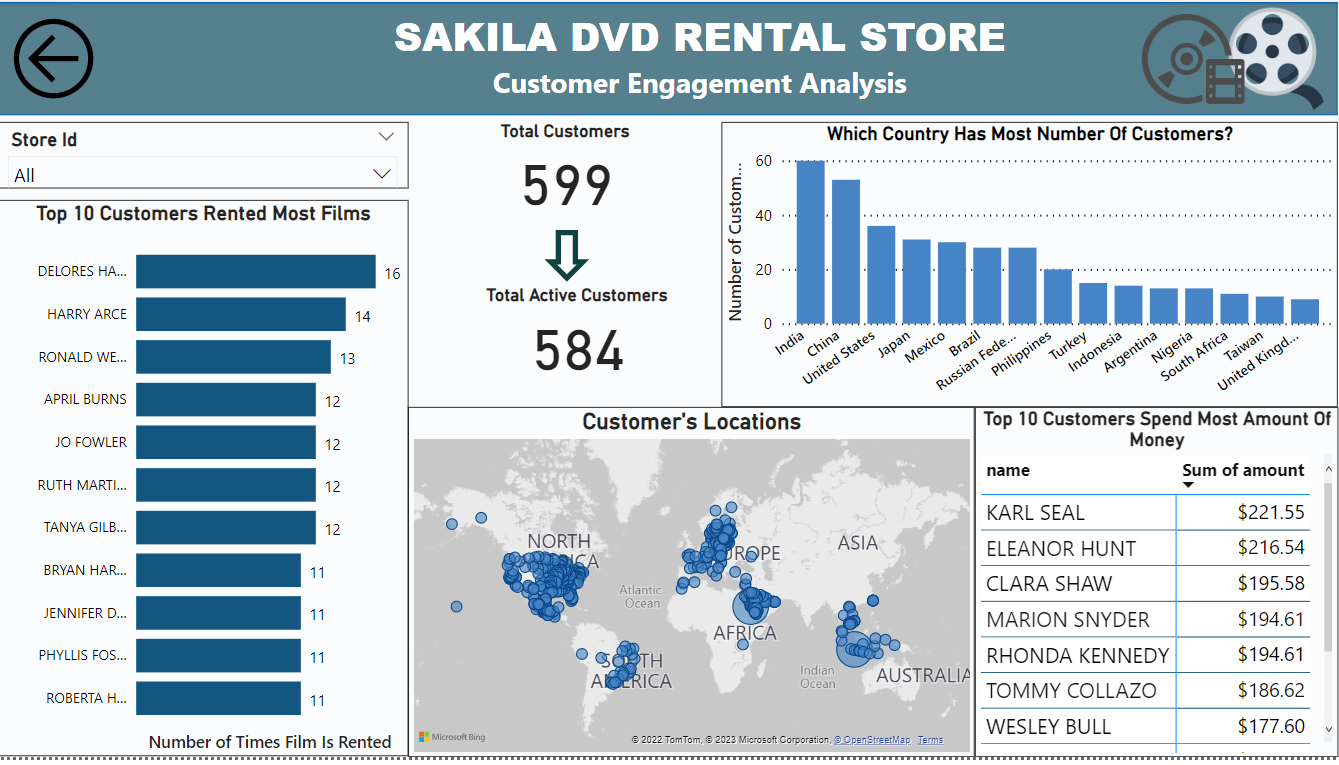

Layout of this report page (visuals, bound fields, positions):
{"tool":"powerbi","page":{"name":"customer","canvas":[1280,720],"ordinal":7},"visuals":[{"type":"shape","box":[0,0,1279.5,108.1],"z":0},{"type":"image","box":[1160.3,0,119.2,108.1],"z":1000},{"type":"image","box":[1087.2,0,109.7,108.1],"z":2000},{"type":"textbox","box":[281.3,0,777.2,125.6],"z":3000},{"type":"card","title":"Total Customers","fields":{"Values":["Count(sakila rental.customer_id)"]},"box":[437.1,112.8,211.4,89],"z":4000},{"type":"card","title":"Total Active Customers","fields":{"Values":["sakila customer_list.active customer"]},"box":[457.7,268.6,190.7,92.2],"z":5000},{"type":"clusteredBarChart","title":"Top 10 Customers Rented Most Films","fields":{"Category":["sakila customer_list.name"],"Y":["CountNonNull(actor_customer_id.rental_id)"]},"box":[0,189.1,392.6,530.9],"z":6000},{"type":"clusteredColumnChart","title":"Which Country Has Most Number  Of Customers?","fields":{"Category":["adress_id.country"],"Y":["CountNonNull(sakila customer.customer_id)"]},"box":[691.4,114.4,588.1,271.8],"z":7000},{"type":"map","title":"Customer''s Locations","fields":{"Category":["sakila address.postal_code"],"Size":["CountNonNull(sakila customer.customer_id)"]},"box":[392.6,386.2,540.4,333.8],"z":8000},{"type":"pivotTable","title":"Top 10 Customers Spend Most Amount Of Money","fields":{"Rows":["sakila customer_list.name"],"Values":["Sum(sakila payment.amount)"]},"box":[933,386.2,346.5,333.8],"z":9000},{"type":"shape","box":[522.9,217.7,42.9,49.3],"z":10000},{"type":"actionButton","box":[0,0,109.7,108.1],"z":11000},{"type":"slicer","fields":{"Values":["sakila store.store_id"]},"box":[0,114.4,392.6,63.6],"z":12000}]}

Visuals, with their boxes in screenshot pixels (x1, y1, x2, y2), scaled from the page's 1280x720 canvas onto the 1339x765 screenshot:
shape: [0, 0, 1338, 115]
image: [1214, 0, 1338, 115]
image: [1137, 0, 1252, 115]
textbox: [294, 0, 1107, 133]
"Total Customers" card: [457, 120, 678, 214]
"Total Active Customers" card: [479, 285, 678, 383]
"Top 10 Customers Rented Most Films" clusteredBarChart: [0, 201, 411, 764]
"Which Country Has Most Number  Of Customers?" clusteredColumnChart: [723, 122, 1338, 410]
"Customer''s Locations" map: [411, 410, 976, 764]
"Top 10 Customers Spend Most Amount Of Money" pivotTable: [976, 410, 1338, 764]
shape: [547, 231, 592, 284]
actionButton: [0, 0, 115, 115]
slicer - sakila store.store_id: [0, 122, 411, 189]
